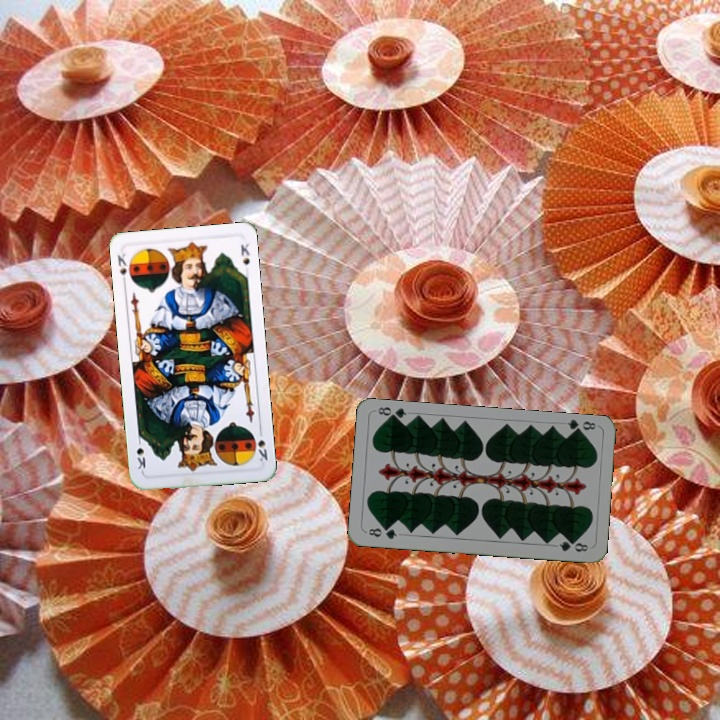G8: (563, 416, 598, 437), (364, 523, 400, 542)
SK: (254, 424, 270, 464), (114, 249, 129, 288)
